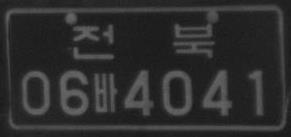0: (20, 69, 50, 116), (162, 70, 192, 116)
1: (243, 68, 276, 116)
4: (123, 68, 154, 115), (201, 70, 232, 116)
6: (59, 69, 89, 116)
바: (92, 72, 119, 113)
전북_D: (72, 22, 215, 59)
